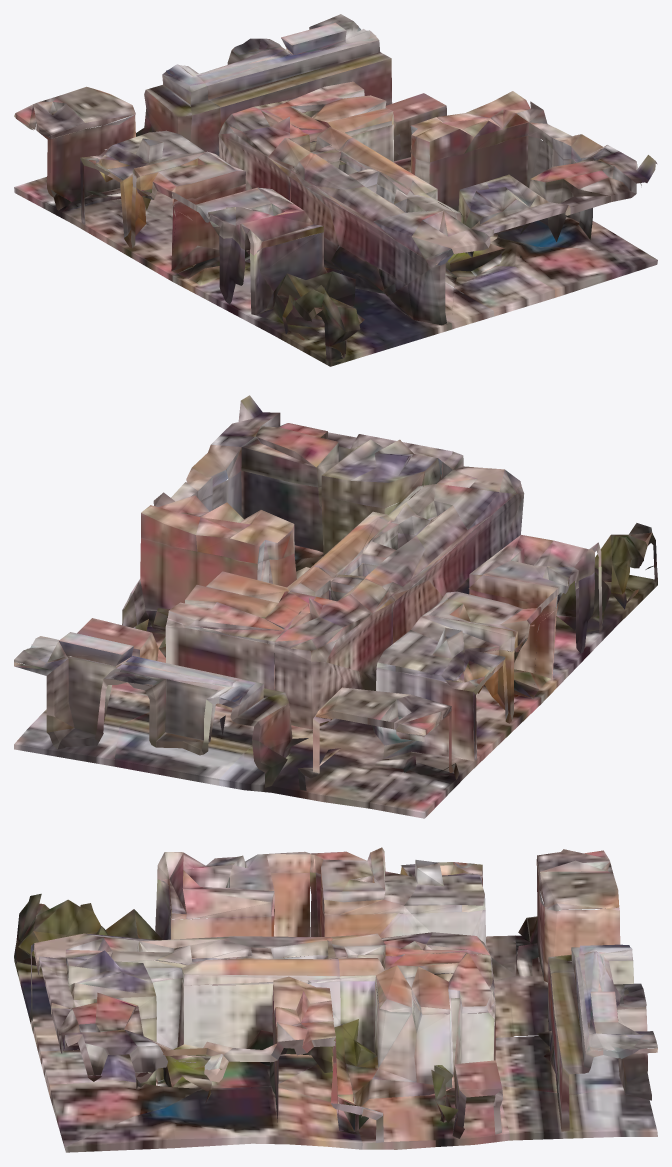
The picture shows the model from 3 angles, top to bottom: view 1: azimuth 30°, elevation 25°; view 2: azimuth 150°, elevation 25°; view 3: azimuth 270°, elevation 25°; orthographic projection. The views are drawn at different scales.
Visible parts, largest first — view 1: Mesh_0; view 2: Mesh_0; view 3: Mesh_0.
Boxes of the visible parts, bbox=[...] form: Mesh_0: bbox=[14, 14, 657, 366]; Mesh_0: bbox=[14, 395, 657, 818]; Mesh_0: bbox=[14, 847, 657, 1152].
Size of the model in its own units: 133 by 36.93 by 165.
1 material, 1 textured.
